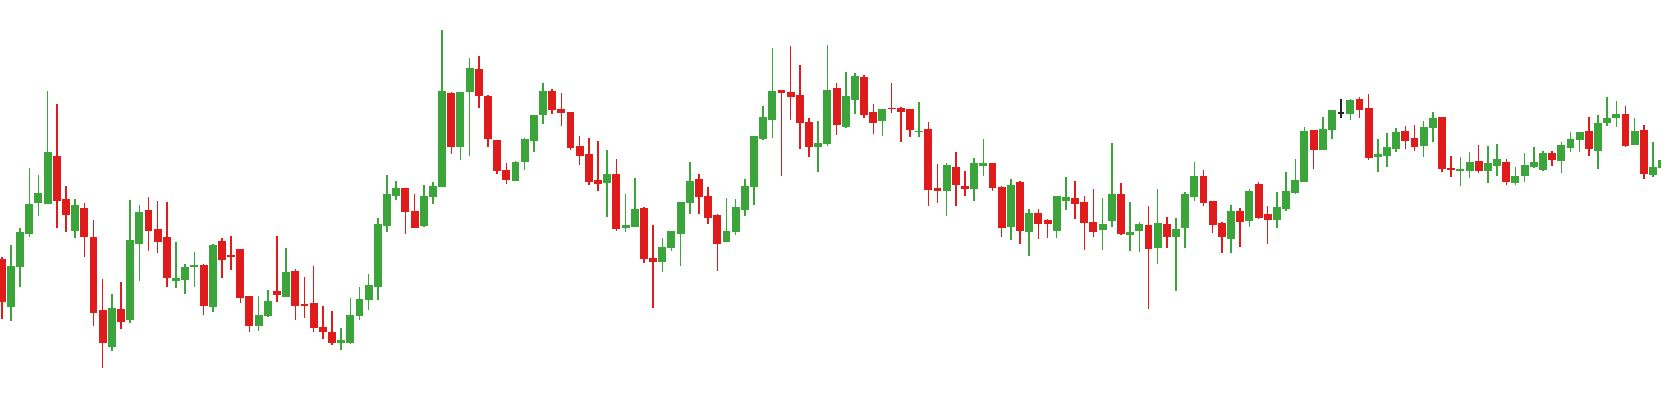buy: (4, 216, 119, 374), (244, 267, 355, 357), (673, 191, 731, 281)
sell: (786, 38, 844, 141)
